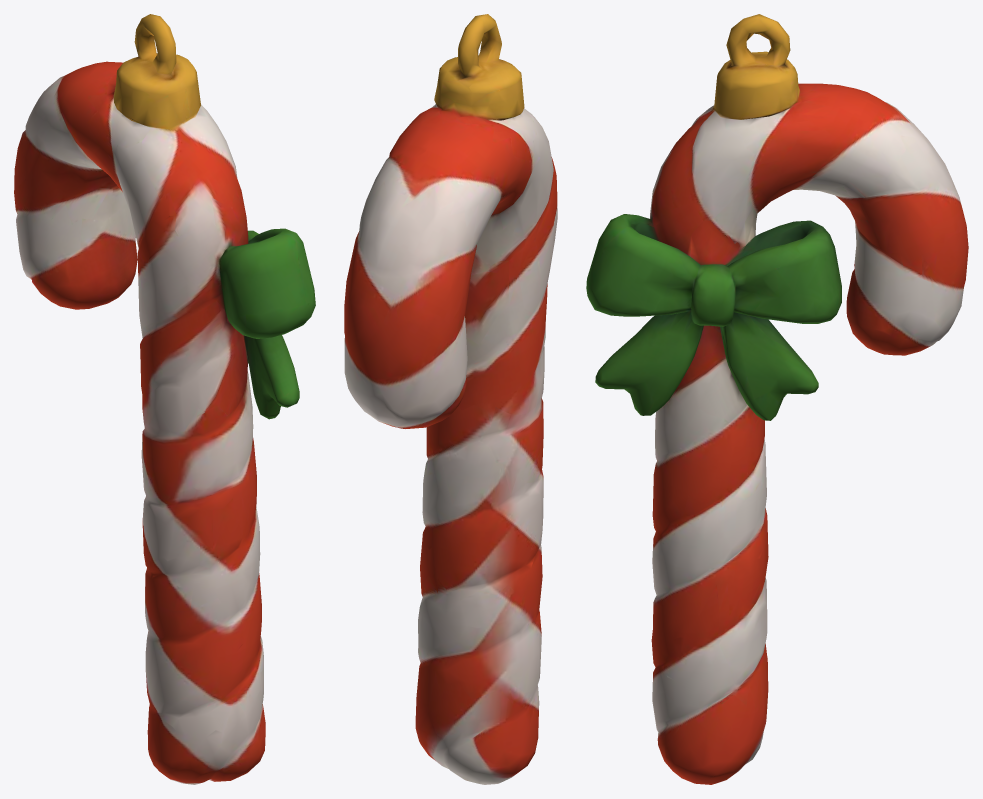
The model's file is orn_candy.glb.
The picture shows the model from 3 angles, left to right: view 1: azimuth 30°, elevation 25°; view 2: azimuth 150°, elevation 25°; view 3: azimuth 270°, elevation 25°; orthographic projection. The views are drawn at different scales.
Visible parts, largest first — view 1: tripo_node_c44ed180-e126-4607-afdc-9091861724ee; view 2: tripo_node_c44ed180-e126-4607-afdc-9091861724ee; view 3: tripo_node_c44ed180-e126-4607-afdc-9091861724ee.
Boxes of the visible parts, box(x1,y1,x2,y2) form: tripo_node_c44ed180-e126-4607-afdc-9091861724ee: box(14, 14, 315, 784); tripo_node_c44ed180-e126-4607-afdc-9091861724ee: box(344, 14, 557, 784); tripo_node_c44ed180-e126-4607-afdc-9091861724ee: box(586, 14, 968, 784).
Bounding box in the file's own units: 0.2091 × 1 × 0.4635.
Materials: 1 (1 with a texture image).
